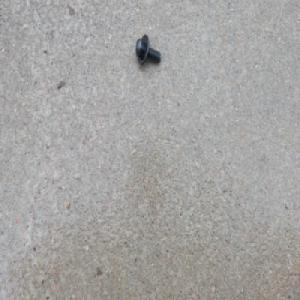BoltWasher: (135, 34, 162, 67)
